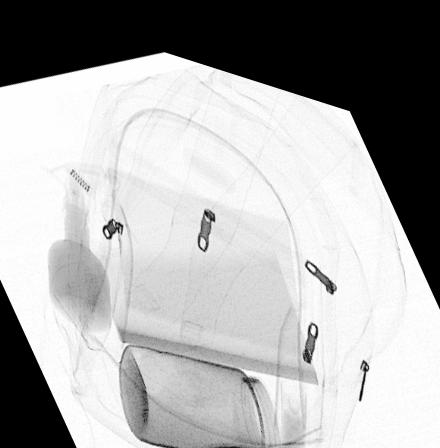Pliers: (194, 428, 326, 448)
